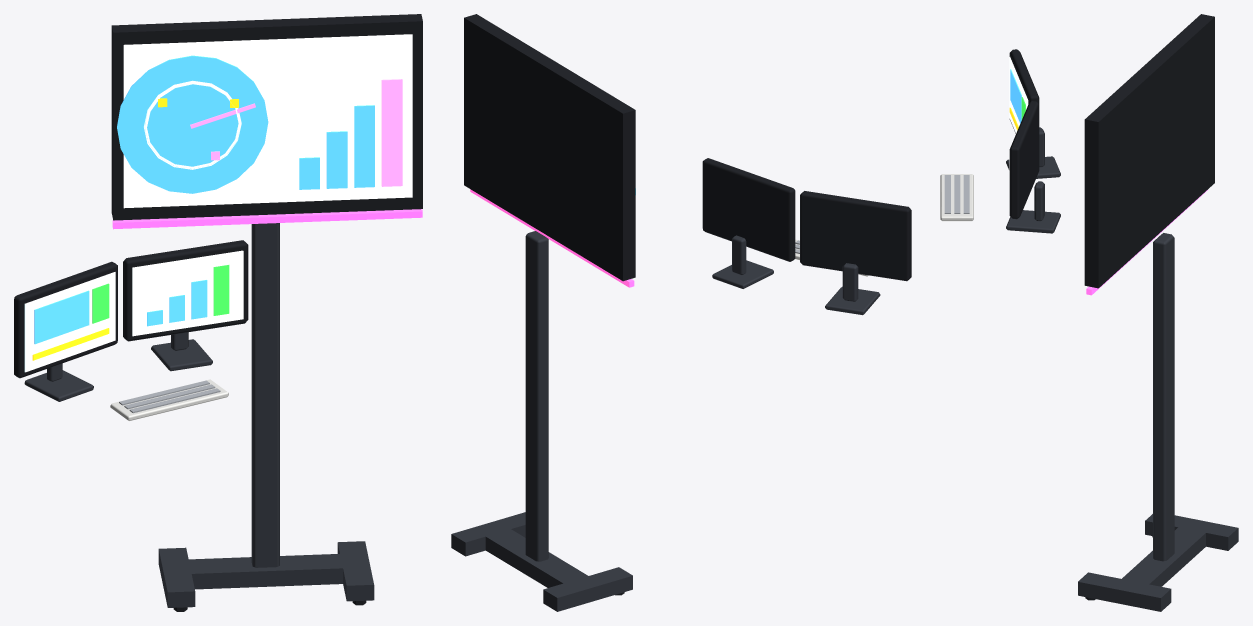
The model's file is station_intake_ausstattung_2_3.glb.
The picture shows the model from 3 angles, left to right: view 1: azimuth 30°, elevation 25°; view 2: azimuth 150°, elevation 25°; view 3: azimuth 270°, elevation 25°; orthographic projection. The views are drawn at different scales.
Visible parts, largest first — view 1: station_intake_ausstattung_2_3; view 2: station_intake_ausstattung_2_3; view 3: station_intake_ausstattung_2_3.
Boxes of the visible parts, bbox=[...] form: station_intake_ausstattung_2_3: bbox=[14, 14, 422, 611]; station_intake_ausstattung_2_3: bbox=[451, 14, 911, 611]; station_intake_ausstattung_2_3: bbox=[940, 14, 1238, 611].
Bounding box in the file's own units: 1.52 × 1.82 × 0.9749.
